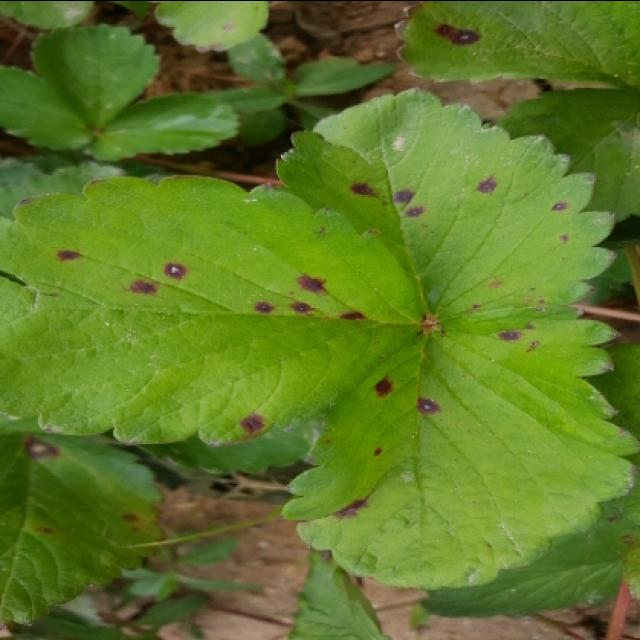Leaf Spot: (0, 173, 426, 447), (282, 304, 638, 591), (246, 82, 620, 324), (0, 418, 169, 632), (393, 2, 638, 90), (154, 2, 270, 54)
